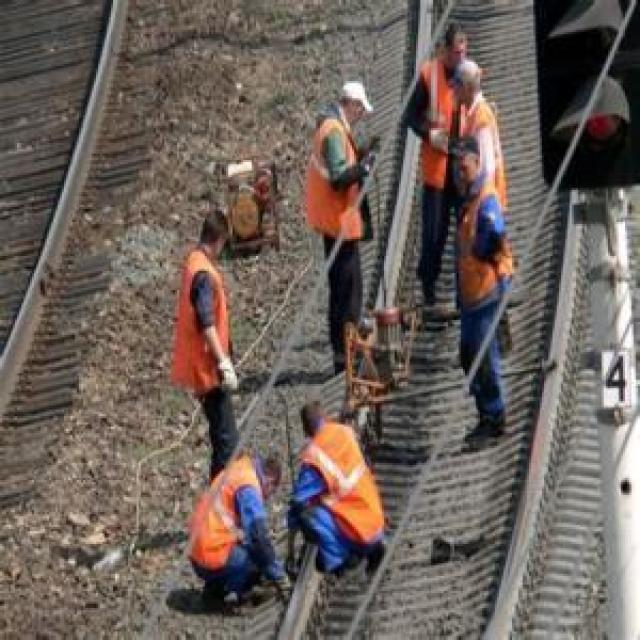danger: (404, 16, 505, 334), (456, 22, 515, 462), (302, 81, 379, 373), (172, 207, 246, 486), (290, 414, 386, 572), (187, 452, 289, 598)
